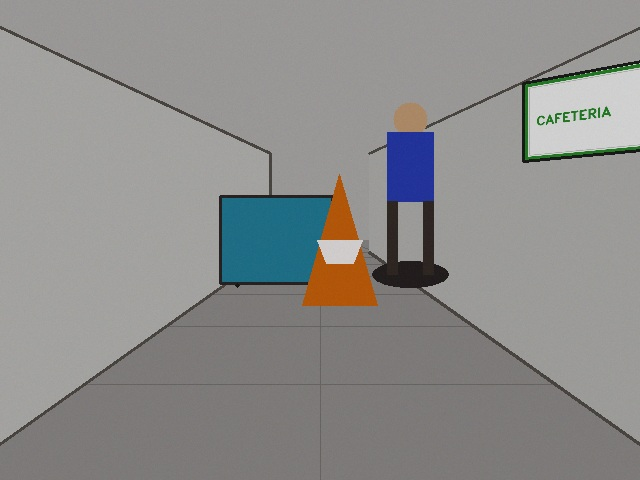cart: (220, 196, 332, 283)
directional_sign: (523, 46, 639, 161)
obstacle: (302, 174, 377, 305)
person: (376, 102, 444, 274)
